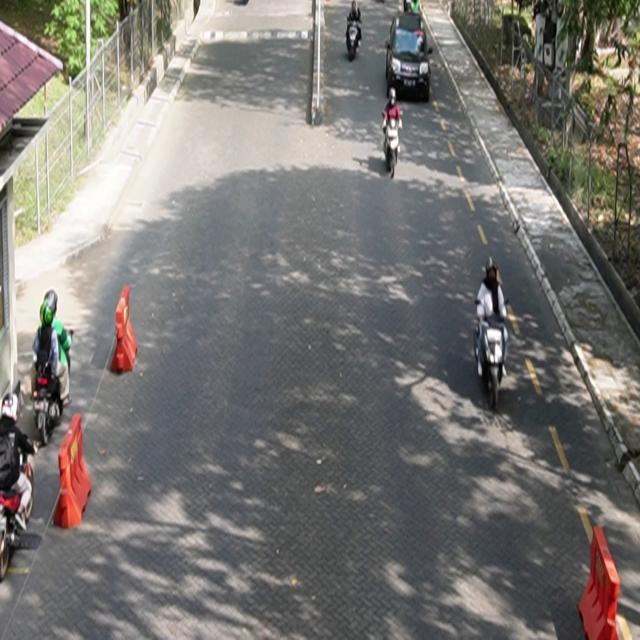car: (386, 13, 433, 102)
